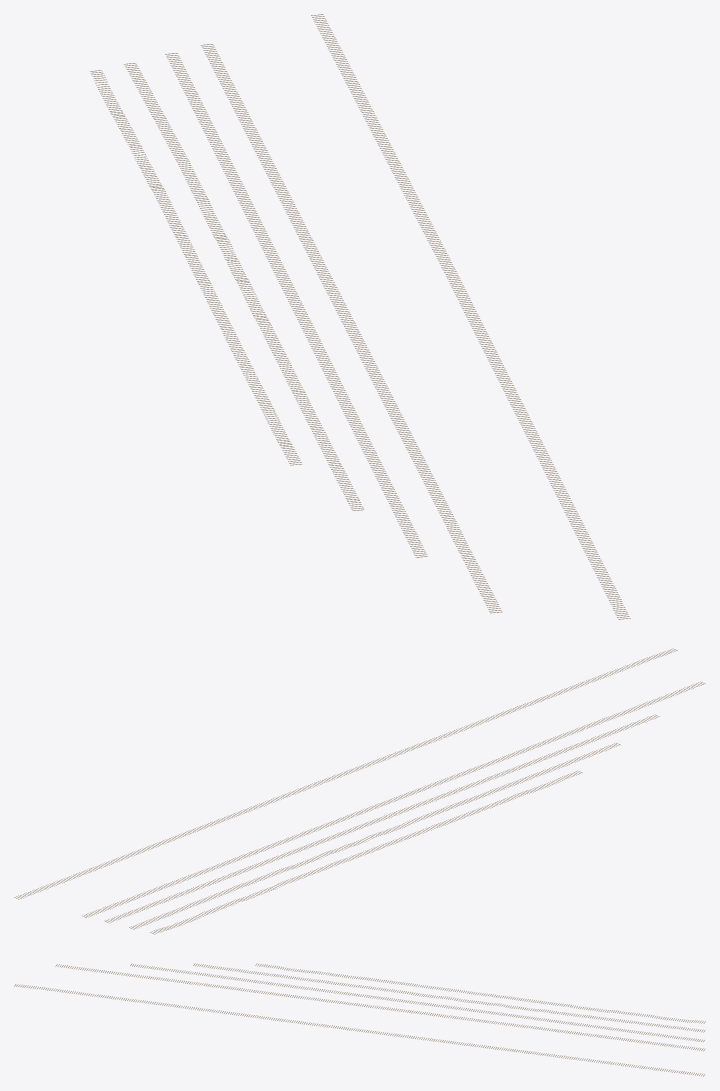
File: c_1631_17827_rail_sleeper.glb
The picture shows the model from 3 angles, top to bottom: view 1: azimuth 30°, elevation 25°; view 2: azimuth 150°, elevation 25°; view 3: azimuth 270°, elevation 25°; orthographic projection. The views are drawn at different scales.
Visible parts, largest first — view 1: geometry_0; view 2: geometry_0; view 3: geometry_0.
Part boxes in pixels (x1,y1,x2,y2): geometry_0: (89, 14, 630, 619); geometry_0: (14, 648, 705, 934); geometry_0: (14, 963, 705, 1076).
Size of the model in its own units: 103 by 1.85 by 256.
